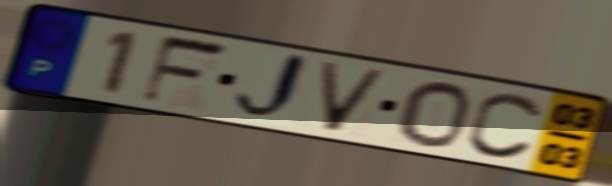1: (101, 29, 141, 98)
C: (465, 89, 548, 162)
F: (136, 32, 233, 108)
J: (230, 49, 313, 124)
O: (394, 79, 474, 150)
V: (316, 58, 393, 135)
